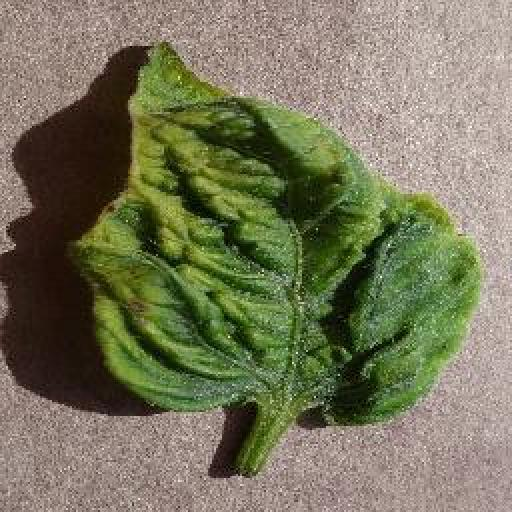disease_tomato: (73, 40, 479, 430)
